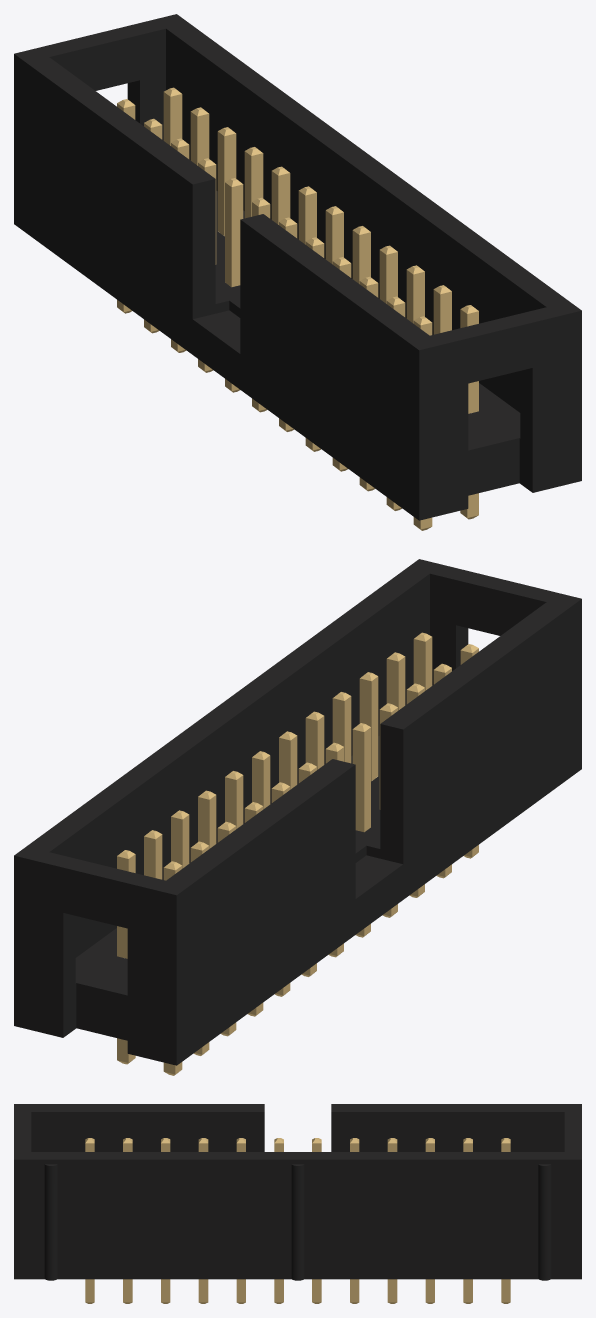
File: kc-idc-header_2x12_p2.54mm_vertical.glb
3 renders of one model, top to bottom at view 1: azimuth 30°, elevation 25°; view 2: azimuth 150°, elevation 25°; view 3: azimuth 270°, elevation 25°, orthographic. The views are drawn at different scales.
Parts seen in each view (by area): view 1: 0_0_0_0, 0.75_0.5_0.25_0.9; view 2: 0_0_0_0, 0.75_0.5_0.25_0.9; view 3: 0_0_0_0, 0.75_0.5_0.25_0.9.
Boxes of the visible parts, x1,y1,x2,y2 form: 0_0_0_0: (14,14,581,520); 0.75_0.5_0.25_0.9: (117,87,478,530); 0_0_0_0: (14,559,581,1065); 0.75_0.5_0.25_0.9: (117,632,478,1075); 0_0_0_0: (14,1104,581,1280); 0.75_0.5_0.25_0.9: (85,1138,510,1303).
Bounding box in the file's own units: 0.9098 × 1.21 × 3.81.
